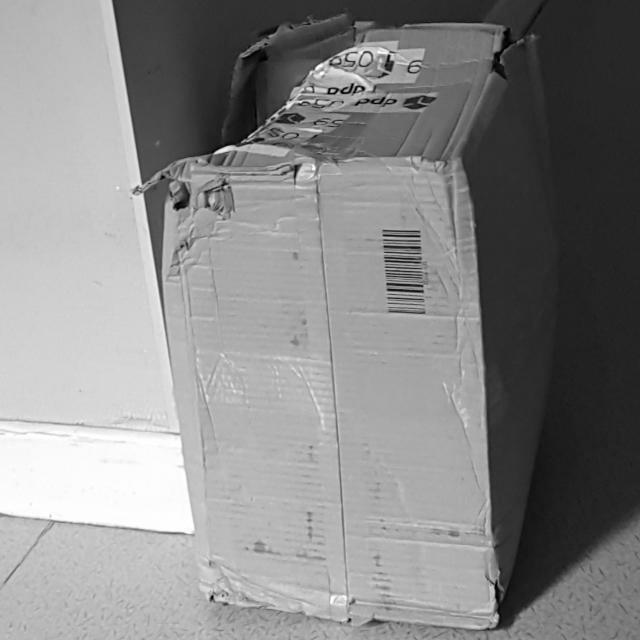hole: (485, 24, 522, 79)
